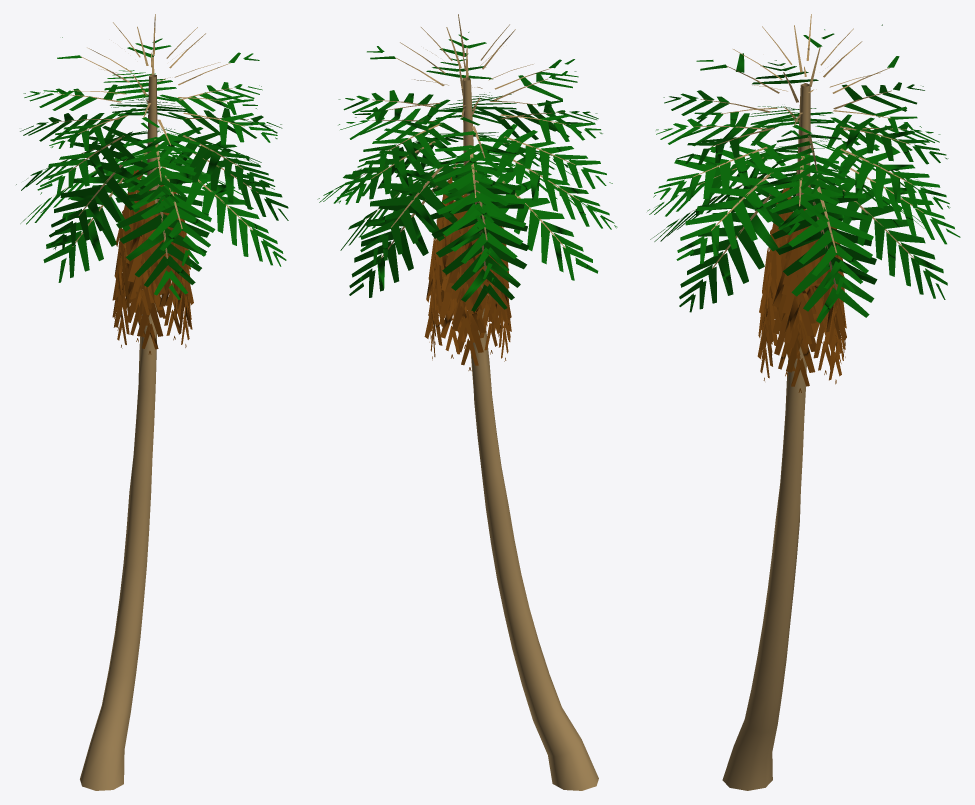
The model's file is Tree_02.fbx.
3 renders of one model, left to right at view 1: azimuth 30°, elevation 25°; view 2: azimuth 150°, elevation 25°; view 3: azimuth 270°, elevation 25°, orthographic. The views are drawn at different scales.
Parts seen in each view (by area): view 1: Foliage002; view 2: Foliage002; view 3: Foliage002.
Part boxes in pixels (left/top/right/bottom): Foliage002: left=16, top=14, right=288, bottom=790; Foliage002: left=317, top=14, right=617, bottom=790; Foliage002: left=647, top=14, right=960, bottom=790.
Size of the model in its own units: 146 by 143 by 395.
